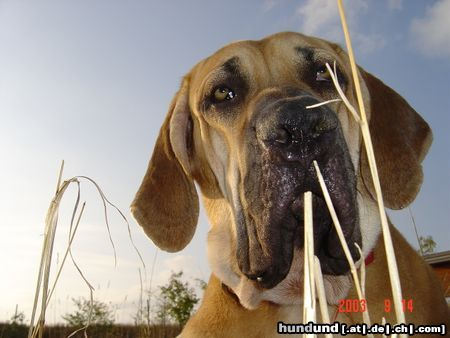fila_brasileiro: (130, 29, 450, 338)
